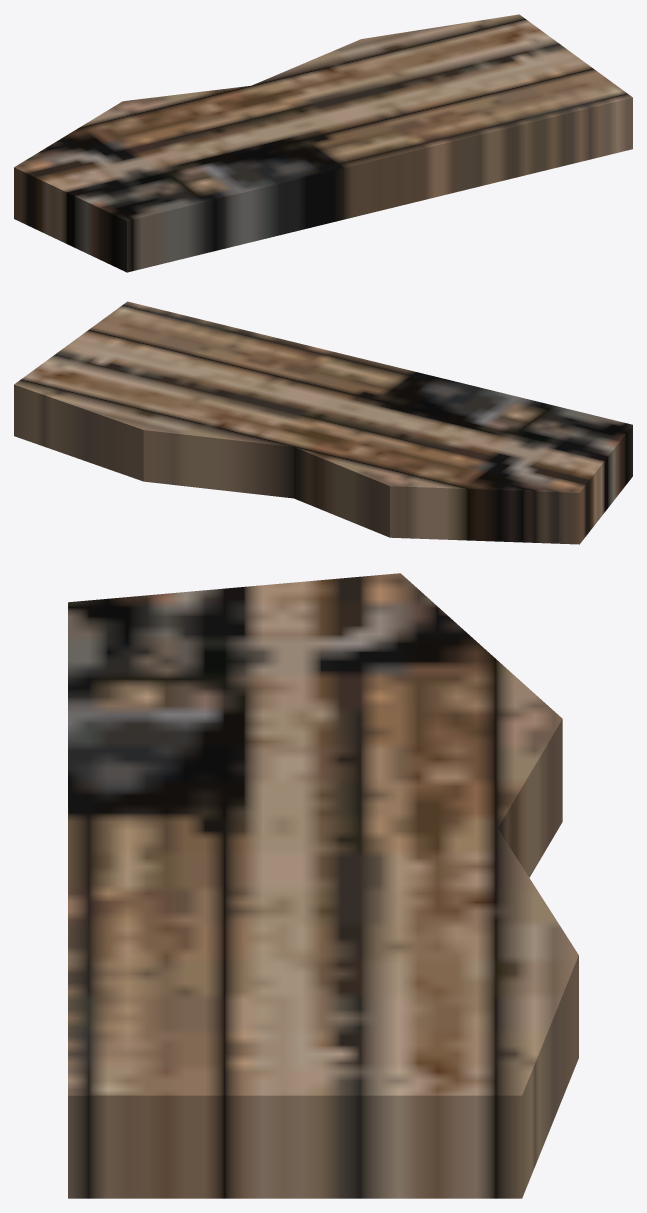
The model's file is GLA - Ground Vehicles - Quad Cannon - Damage State 2 - UVQuadCann_d2.glb.
3 renders of one model, top to bottom at view 1: azimuth 30°, elevation 25°; view 2: azimuth 150°, elevation 25°; view 3: azimuth 270°, elevation 25°, orthographic. The views are drawn at different scales.
Visible parts, largest first — view 1: UVQUADCANN_D2; view 2: UVQUADCANN_D2; view 3: UVQUADCANN_D2.
Boxes of the visible parts, x1=… form: UVQUADCANN_D2: x1=14, y1=14, x2=632, y2=272; UVQUADCANN_D2: x1=14, y1=301, x2=632, y2=544; UVQUADCANN_D2: x1=68, y1=573, x2=578, y2=1198.
Bounding box in the file's own units: 10.86 × 1 × 4.49.
Materials: 1 (1 with a texture image).
